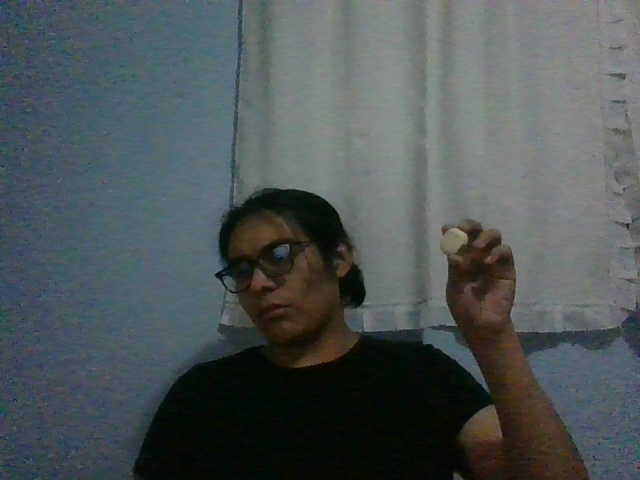goma: (440, 228, 467, 253)
